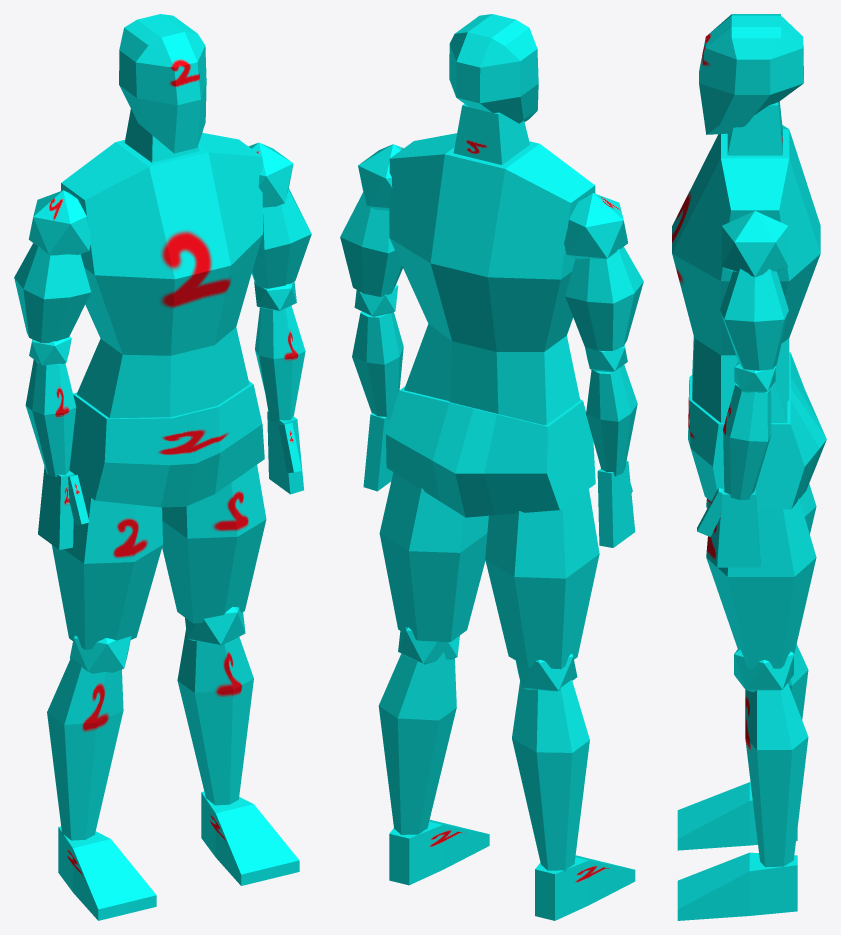
File: EnemySpawn2.fbx
3 views of the same model, side by side, from view 1: azimuth 30°, elevation 25°; view 2: azimuth 150°, elevation 25°; view 3: azimuth 270°, elevation 25° (orthographic). The views are drawn at different scales.
Parts seen in each view (by area): view 1: Character_Cube.001; view 2: Character_Cube.001; view 3: Character_Cube.001.
Boxes of the visible parts, left/top/right/bottom form: Character_Cube.001: left=14, top=14, right=311, bottom=920; Character_Cube.001: left=340, top=14, right=643, bottom=920; Character_Cube.001: left=672, top=14, right=826, bottom=920.
Size of the model in its own units: 1.1 by 3.18 by 0.525.
Materials: 1 (1 with a texture image).
